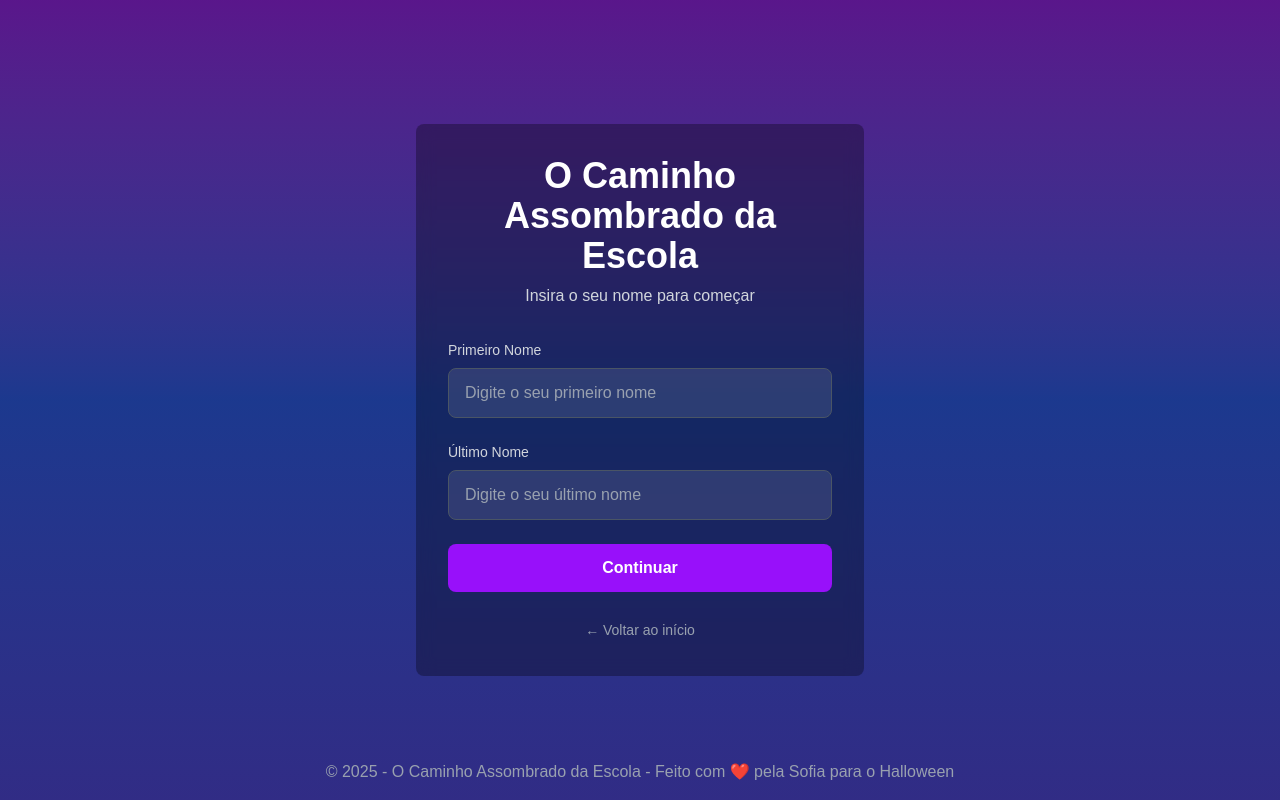
NomePage › shows validation error when only first name is filled
Type "João" into the field labelled "Primeiro Nome".
click(640, 393); type("João")  # box [448,368,832,418]
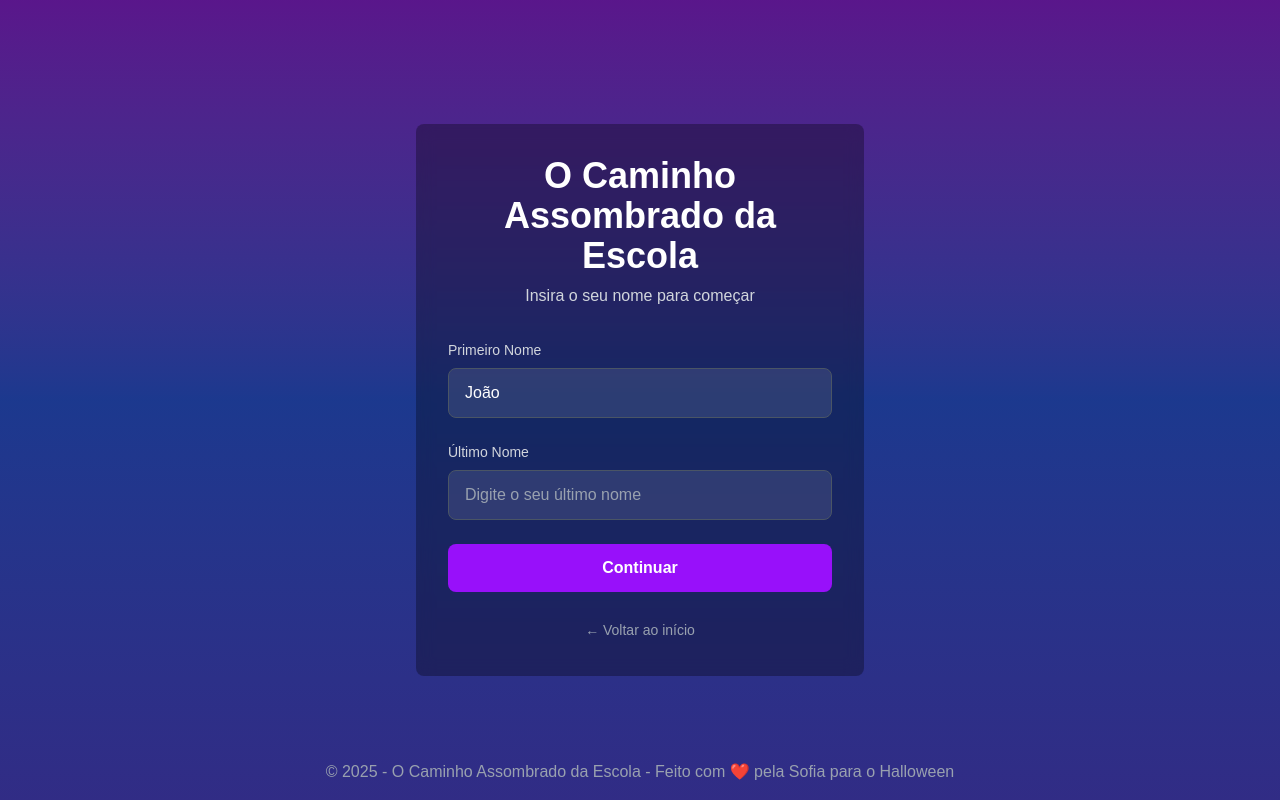
Click the button "Continuar".
click(640, 568)  # box [448,544,832,592]
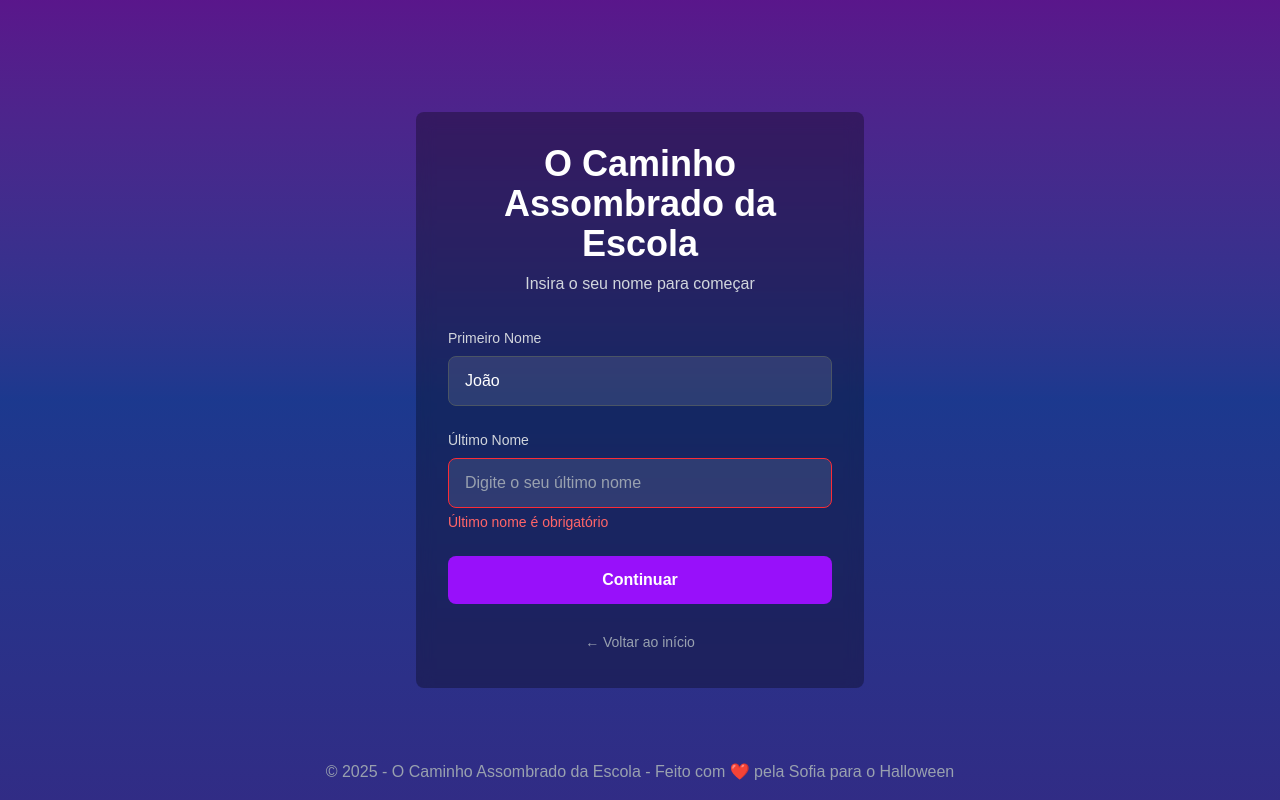
Expected: the text "Último nome é obrigatório" is shown, [448,514,608,530]
